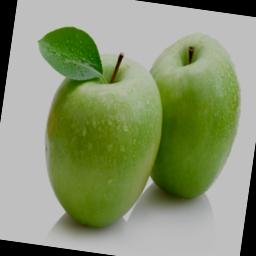Apple Unripe: (6, 12, 188, 248), (130, 13, 256, 217)
